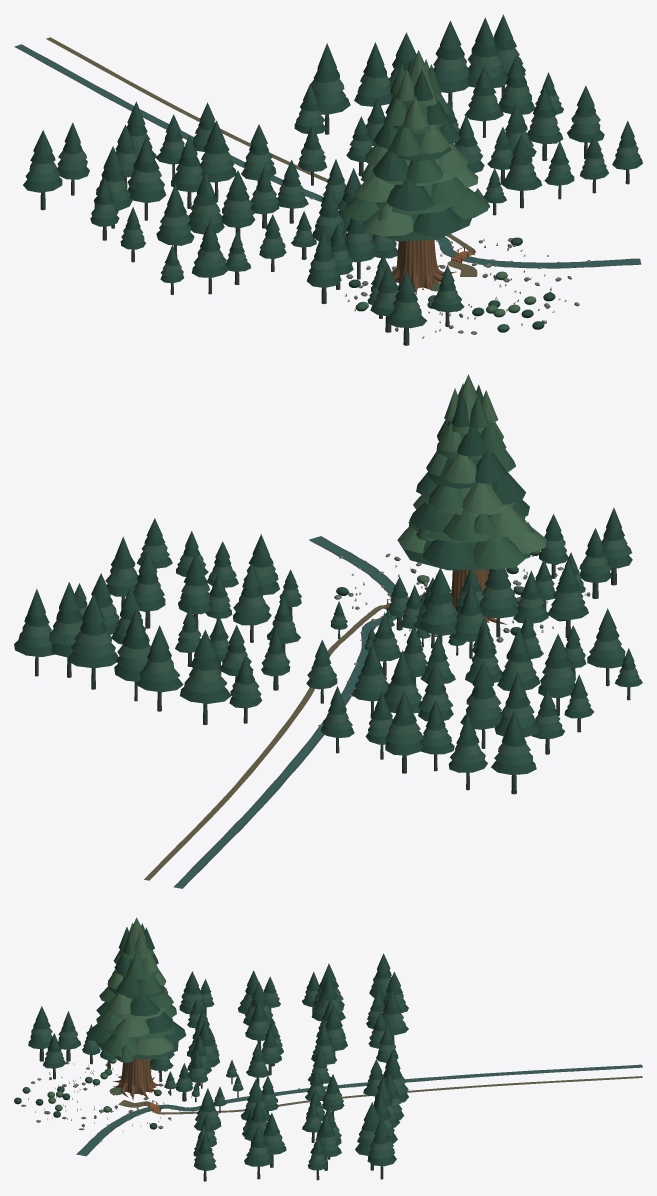
Rendered from pine-solo.glb.
3 renders of one model, top to bottom at view 1: azimuth 30°, elevation 25°; view 2: azimuth 150°, elevation 25°; view 3: azimuth 270°, elevation 25°, orthographic. The views are drawn at different scales.
Visible parts, largest first — view 1: forest-294c40, forest-214238, forest-345345, forest-244638, forest-41634a, forest-315540, forest-38493c, forest-355e5b, forest-ffffff, forest-645d44, forest-3e5048, forest-657166; view 2: forest-294c40, forest-214238, forest-345345, forest-244638, forest-41634a, forest-315540, forest-38493c, forest-355e5b, forest-645d44, forest-3e5048; view 3: forest-294c40, forest-214238, forest-345345, forest-41634a, forest-244638, forest-315540, forest-355e5b, forest-645d44, forest-3e5048, forest-38493c, forest-ffffff, forest-657166.
Part boxes in pixels (x1,y1,x2,y2): forest-294c40: (25, 14, 640, 320); forest-214238: (23, 38, 642, 328); forest-345345: (29, 48, 638, 311); forest-244638: (348, 59, 555, 329); forest-41634a: (353, 50, 536, 317); forest-315540: (342, 64, 509, 332); forest-38493c: (40, 85, 629, 345); forest-355e5b: (15, 44, 640, 267); forest-ffffff: (395, 239, 442, 289); forest-645d44: (46, 37, 477, 276); forest-3e5048: (14, 44, 641, 268); forest-657166: (310, 197, 591, 334); forest-294c40: (18, 508, 639, 765); forest-214238: (14, 529, 642, 775); forest-345345: (22, 537, 637, 755); forest-244638: (336, 384, 531, 635); forest-41634a: (397, 374, 563, 621); forest-315540: (408, 383, 565, 620); forest-38493c: (35, 564, 630, 794); forest-355e5b: (175, 536, 396, 888); forest-645d44: (144, 594, 422, 880); forest-3e5048: (173, 536, 396, 888); forest-294c40: (30, 953, 408, 1165); forest-214238: (28, 970, 408, 1170); forest-345345: (31, 976, 405, 1160); forest-41634a: (47, 917, 173, 1112); forest-244638: (14, 927, 186, 1129); forest-315540: (22, 923, 176, 1096); forest-355e5b: (78, 1065, 642, 1155); forest-645d44: (118, 1076, 642, 1114); forest-3e5048: (76, 1064, 642, 1156); forest-38493c: (39, 1000, 394, 1181); forest-ffffff: (118, 930, 156, 1095); forest-657166: (21, 1061, 354, 1141).
Size of what is drawn, in the model's own units: 70.93 by 31.44 by 104.
